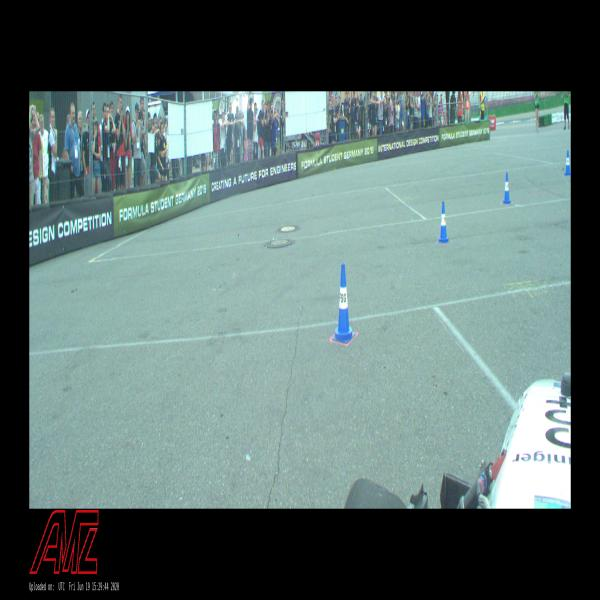blue_cone: (332, 263, 356, 344), (437, 201, 450, 244), (502, 171, 512, 204), (564, 150, 571, 175)
